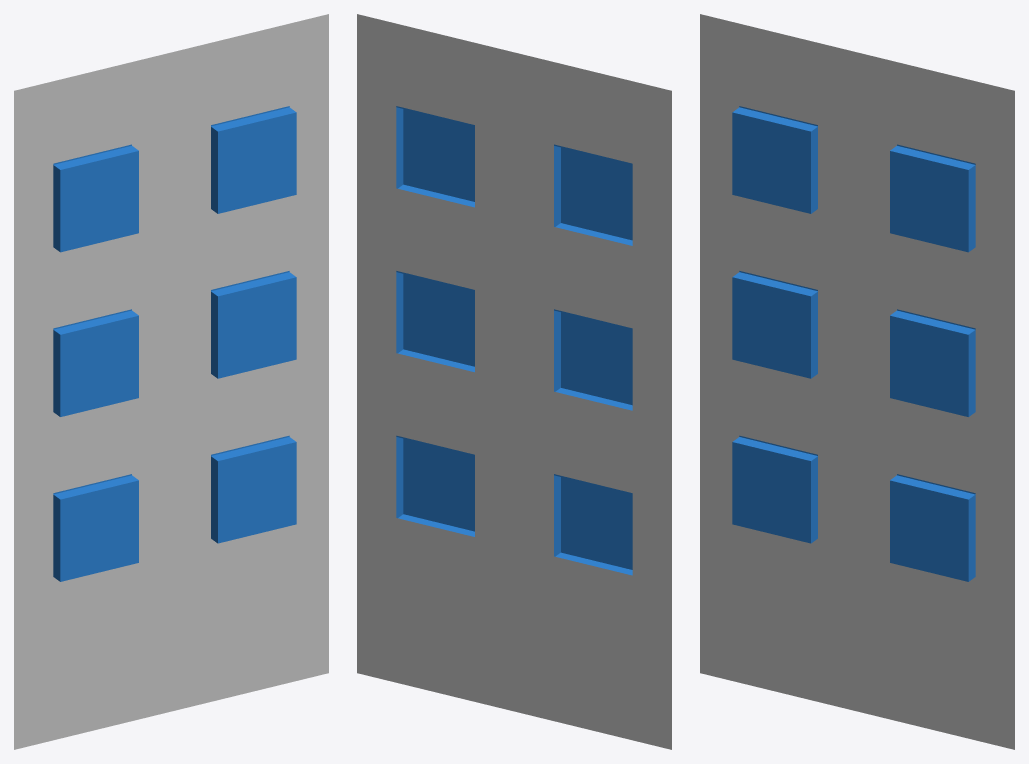
The model's file is totallyrealwall.fbx.
The picture shows the model from 3 angles, left to right: view 1: azimuth 30°, elevation 25°; view 2: azimuth 150°, elevation 25°; view 3: azimuth 330°, elevation 25°; orthographic projection.
Parts seen in each view (by area): view 1: Cube.001; view 2: Cube.001; view 3: Cube.001.
Boxes of the visible parts, <box> form: Cube.001: <box>14,14,328,749</box>; Cube.001: <box>357,14,671,749</box>; Cube.001: <box>700,14,1014,749</box>.
Size of the model in its own units: 200 by 400 by 7.7.
